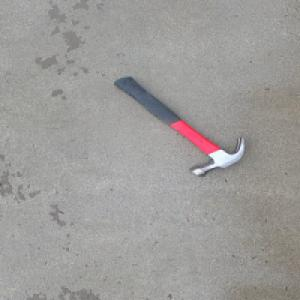Hammer: (110, 75, 246, 178)
